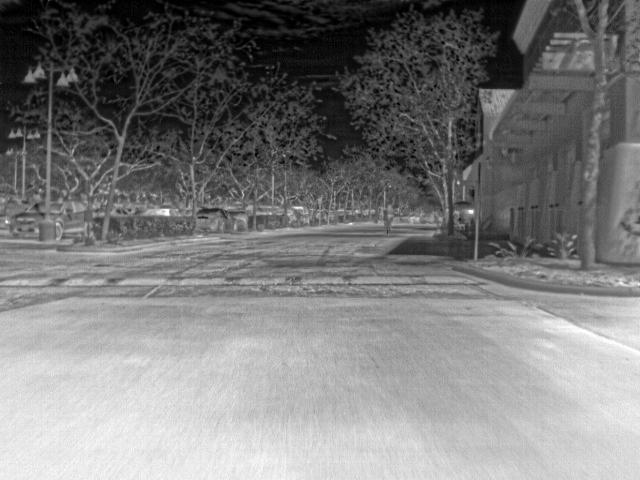car: (52, 198, 92, 241), (6, 199, 42, 238), (197, 206, 232, 232), (113, 200, 149, 214), (147, 204, 178, 218), (259, 204, 285, 218), (288, 206, 310, 222), (402, 211, 419, 224), (419, 213, 435, 225)
person: (382, 204, 393, 220)
